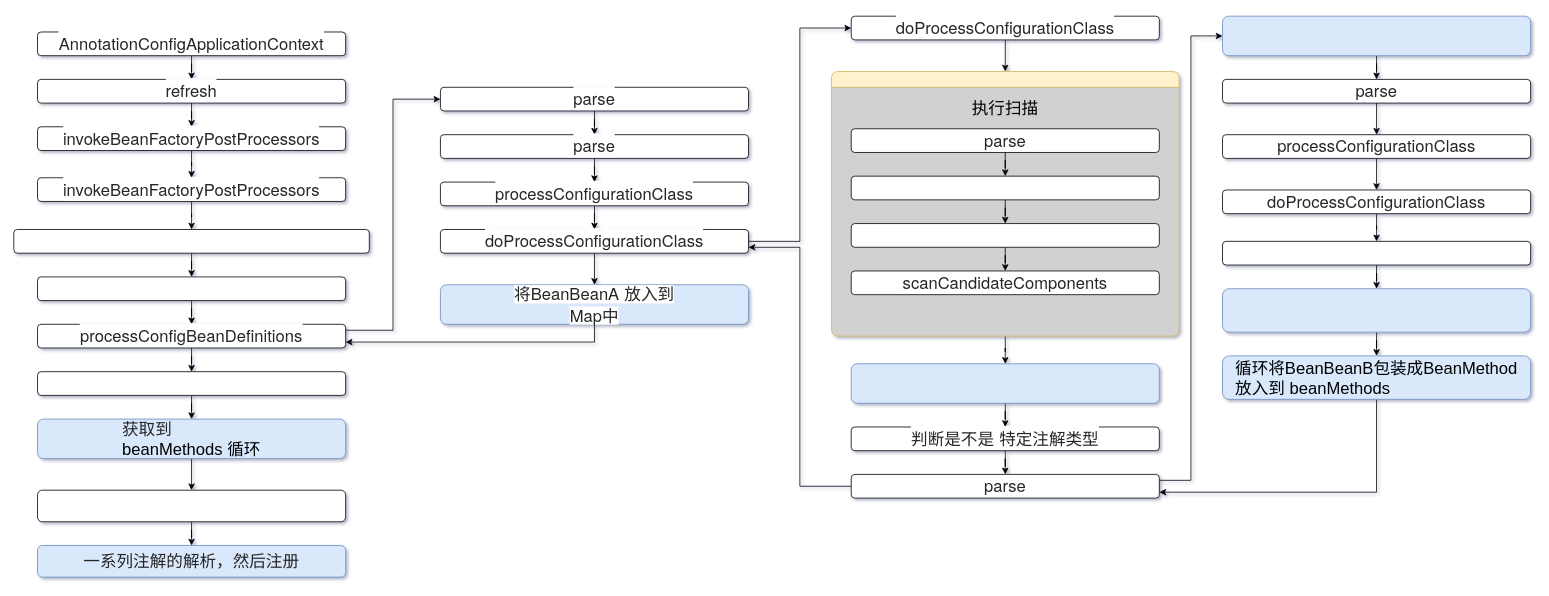
This 1549x596 diagram has some shape labels left out. The shapes that lost their labels are listed below. From the top down, each one's centre as x and y in pixels, then its label:
[1376,35]: 处理 BeanBeanA
[1004,187]: doScan
[191,241]: invokeBeanDefinitionRegistryPostProcessors
[1004,235]: findCandidateComponents
[1376,253]: retrieveBeanMethodMetadata
[191,288]: postProcessBeanDefinitionRegistry
[1376,310]: 扫描到 BeanBeanB
[191,383]: loadBeanDefinitions
[1004,383]: 扫描到 BeanBeanA
[191,505]: loadBeanDefinitionsForBeanMethod
